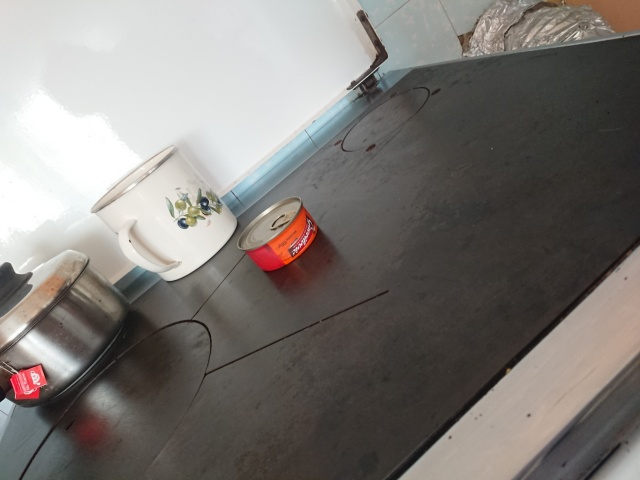Gavrilovic Pork Liver Pate 100g: (235, 193, 320, 274)
